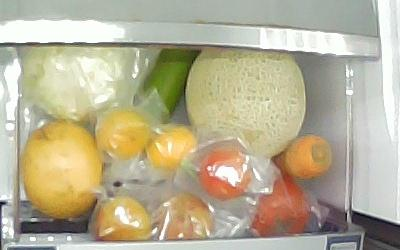cabbage: (21, 45, 134, 121)
carrot: (271, 133, 332, 180)
melon: (183, 45, 306, 159)
pear: (20, 119, 102, 219)
prune_vinyl: (196, 146, 252, 200), (157, 191, 217, 240), (92, 194, 152, 242)
tangerine_vinyl: (95, 108, 150, 158), (145, 125, 196, 171)
tomato_vinyl: (249, 173, 308, 236)
zucchini: (131, 46, 202, 124)
